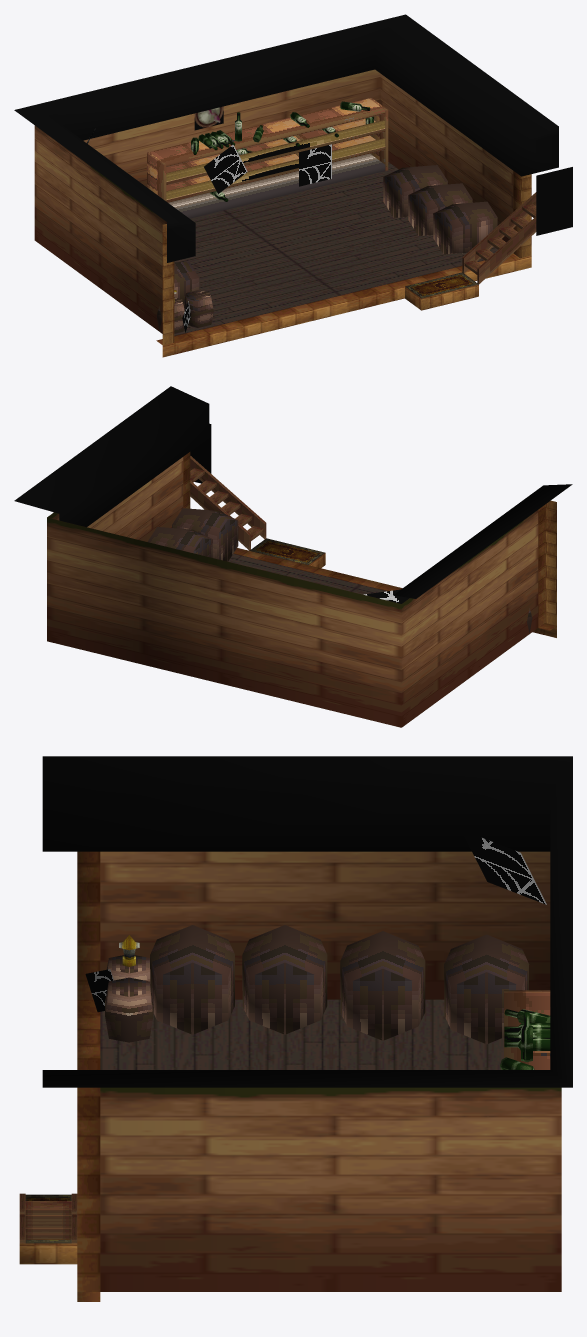
3 renders of one model, top to bottom at view 1: azimuth 30°, elevation 25°; view 2: azimuth 150°, elevation 25°; view 3: azimuth 270°, elevation 25°, orthographic. The views are drawn at different scales.
Visible parts, largest first — view 1: ghost_under; view 2: ghost_under; view 3: ghost_under.
Boxes of the visible parts, x1,y1,x2,y2 form: ghost_under: [14, 14, 572, 357]; ghost_under: [14, 386, 572, 727]; ghost_under: [19, 756, 572, 1301].
Bounding box in the file's own units: 6.9 × 2.39 × 4.85.
Materials: 14 (14 with a texture image).
